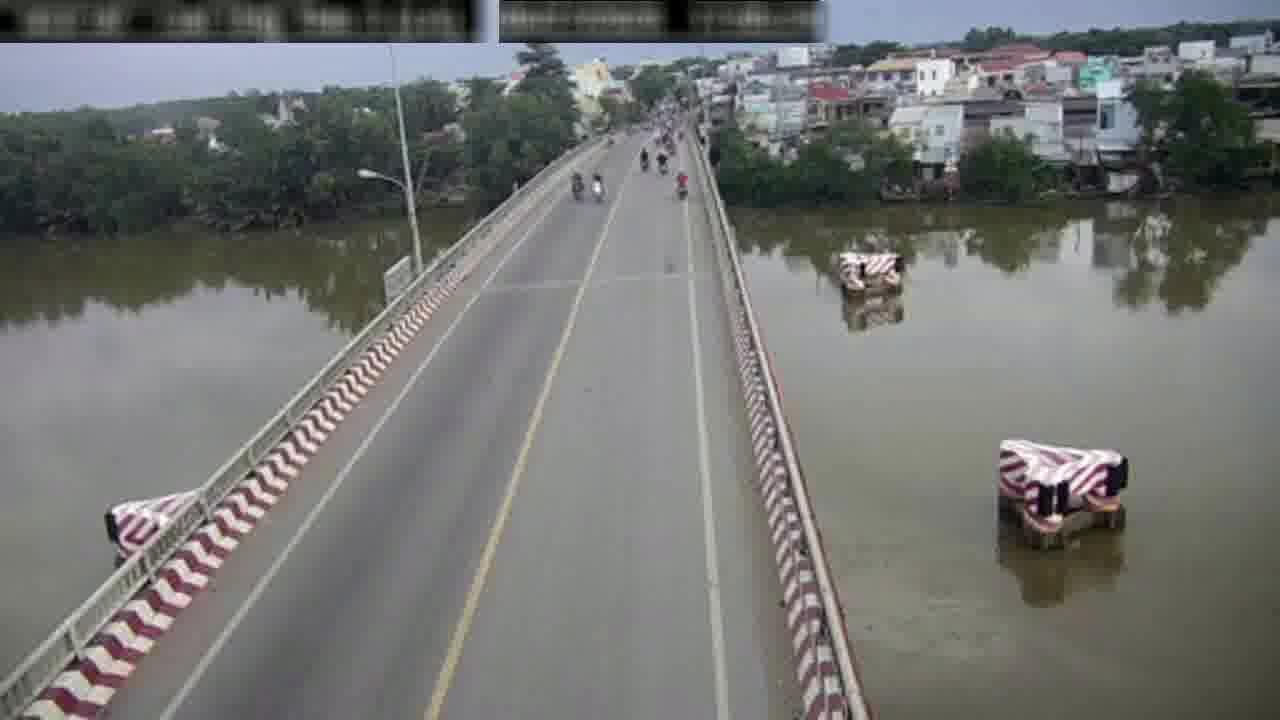motorbike: (674, 166, 689, 199), (569, 170, 584, 202), (592, 169, 606, 203), (657, 148, 669, 176), (638, 145, 649, 172)
